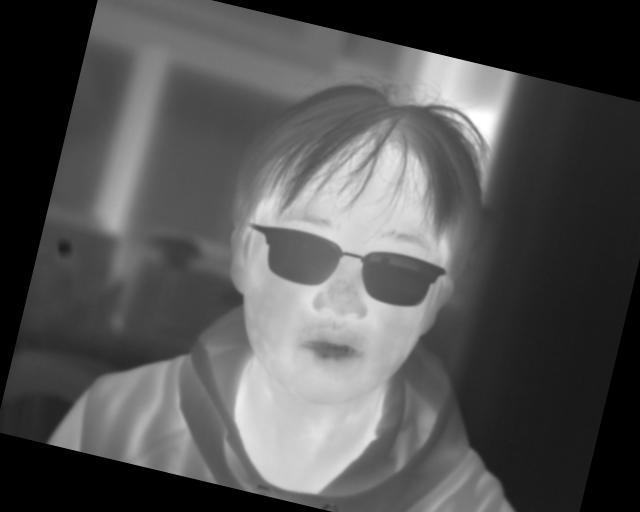face: (350, 141, 430, 238), (202, 130, 271, 221)
